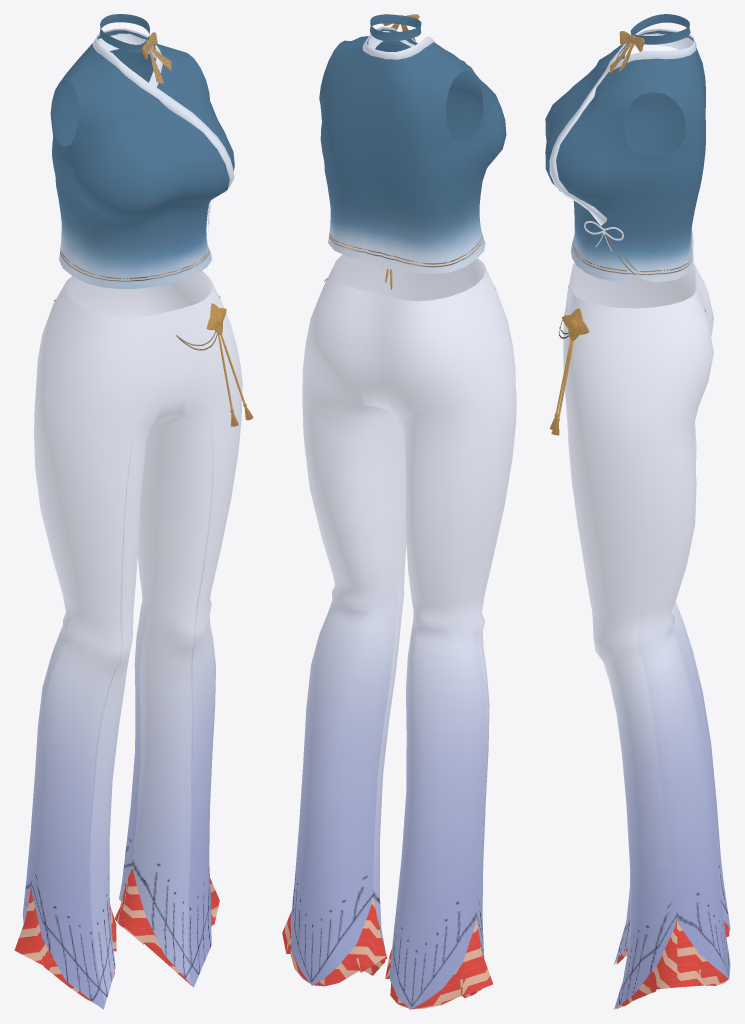
Rendered from prevfinal0001.glb.
3 views of the same model, side by side, from view 1: azimuth 30°, elevation 25°; view 2: azimuth 150°, elevation 25°; view 3: azimuth 270°, elevation 25° (orthographic). The views are drawn at different scales.
Visible parts, largest first — view 1: Cube.002, Cube, Cube.003, Circle, Cylinder, Cube.001; view 2: Cube.002, Cube, Cube.003, Circle; view 3: Cube.002, Cube, Cube.003, Circle, Cube.001, Cylinder, Plane.001.
Part boxes in pixels (left/top/right/bottom): Cube.002: left=22, top=270, right=242, bottom=1009; Cube: left=50, top=28, right=234, bottom=288; Cube.003: left=14, top=867, right=219, bottom=1004; Circle: left=99, top=14, right=149, bottom=52; Cylinder: left=218, top=333, right=253, bottom=426; Cube.001: left=141, top=32, right=171, bottom=83; Cube.002: left=290, top=254, right=516, bottom=1009; Cube: left=319, top=26, right=506, bottom=273; Cube.003: left=282, top=898, right=492, bottom=1009; Circle: left=370, top=14, right=421, bottom=41; Cube.002: left=563, top=262, right=730, bottom=1009; Cube: left=545, top=28, right=705, bottom=282; Cube.003: left=616, top=919, right=729, bottom=1008; Circle: left=630, top=14, right=690, bottom=44; Cube.001: left=610, top=31, right=644, bottom=73; Cylinder: left=549, top=339, right=573, bottom=435; Plane.001: left=561, top=308, right=589, bottom=341.
Bounding box in the file's own units: 0.84 × 3.74 × 0.6504.
Materials: 11 (11 with a texture image).
